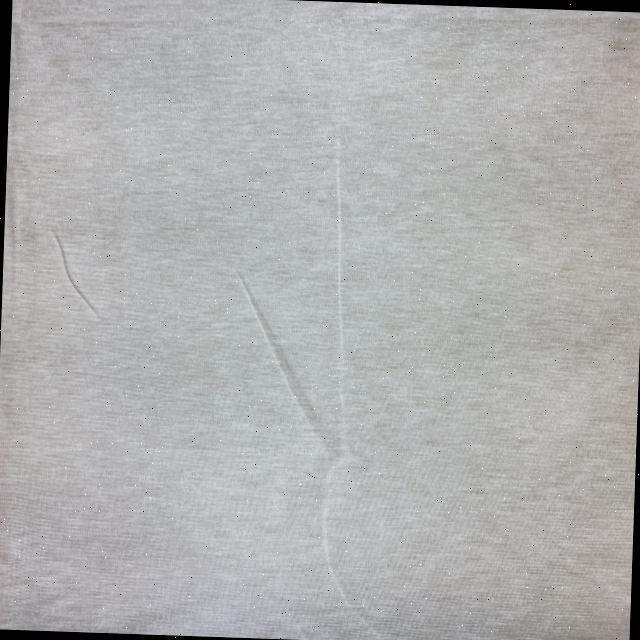broken_yarn: (227, 268, 321, 444), (46, 226, 102, 318)
